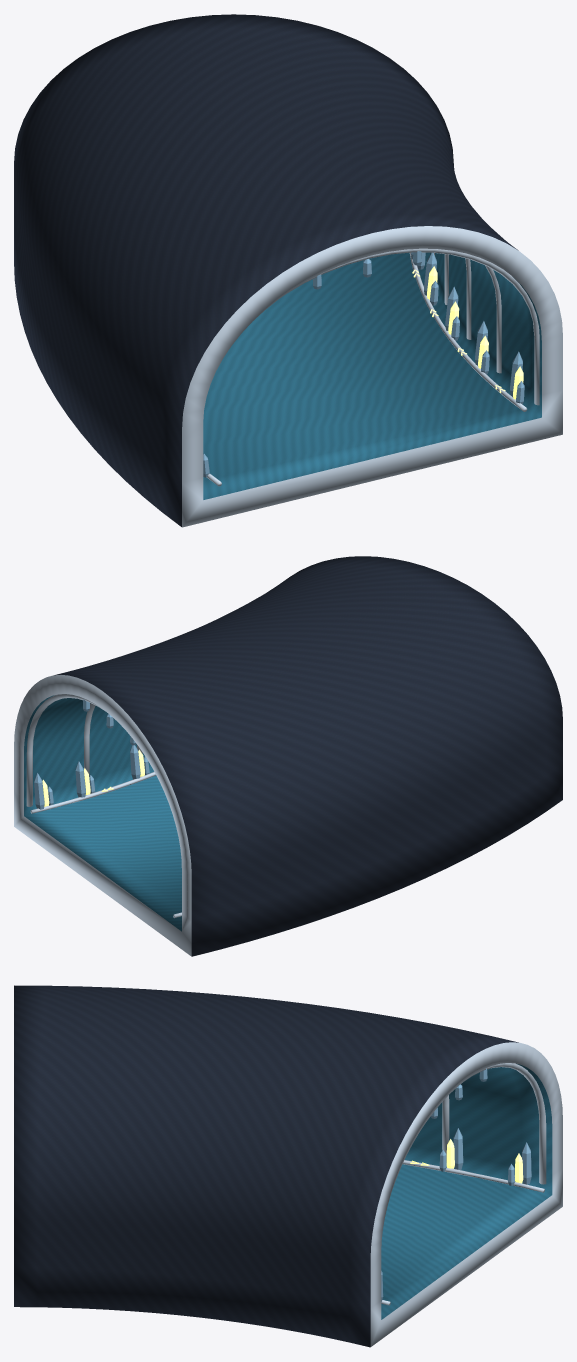
File: curve_right_30_lod1.glb
3 views of the same model, one above another, from view 1: azimuth 30°, elevation 25°; view 2: azimuth 150°, elevation 25°; view 3: azimuth 270°, elevation 25° (orthographic). The views are drawn at different scales.
Visible parts, largest first — view 1: TunnelGeometry.001; view 2: TunnelGeometry.001; view 3: TunnelGeometry.001.
Boxes of the visible parts, <box> form: TunnelGeometry.001: <box>14,14,562,527</box>; TunnelGeometry.001: <box>14,556,562,956</box>; TunnelGeometry.001: <box>14,985,562,1347</box>.
Bounding box in the file's own units: 19.1 × 9.52 × 21.83.
Materials: 5 (2 with a texture image).
